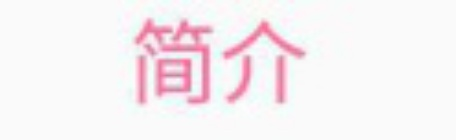TextView: (1, 1, 455, 139)
